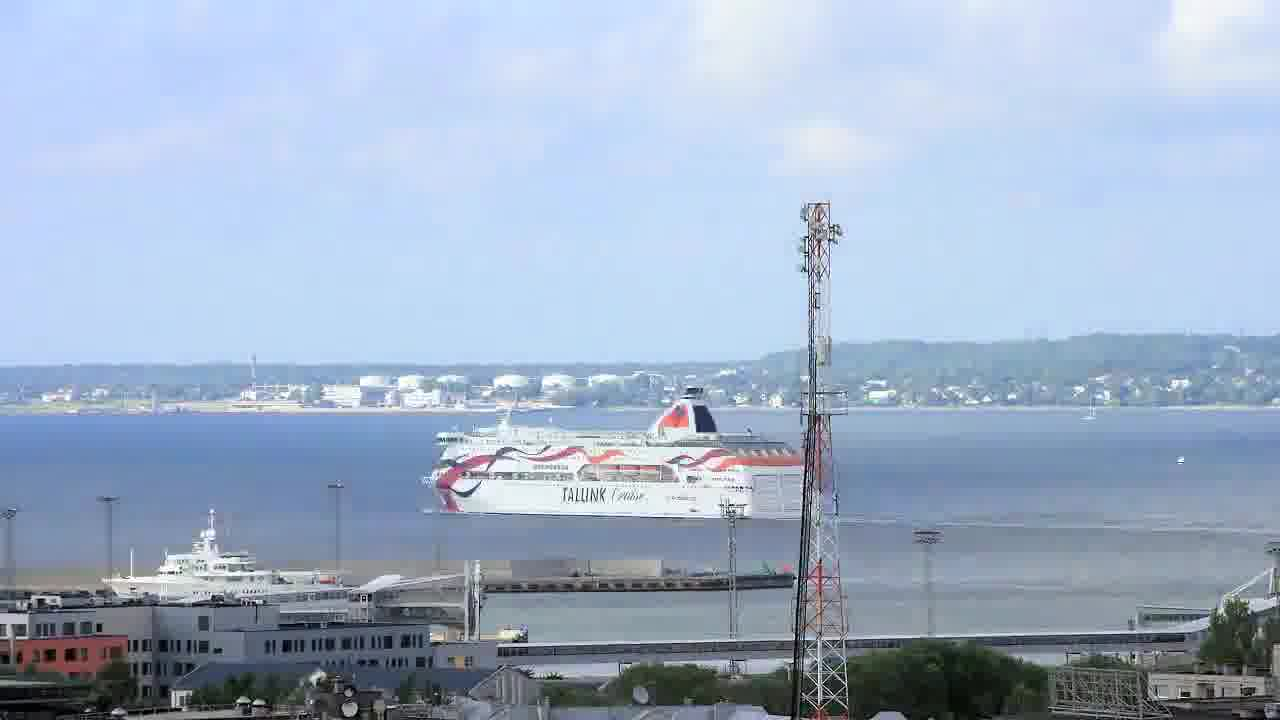type-3: (419, 361, 834, 531), (96, 508, 381, 605)
